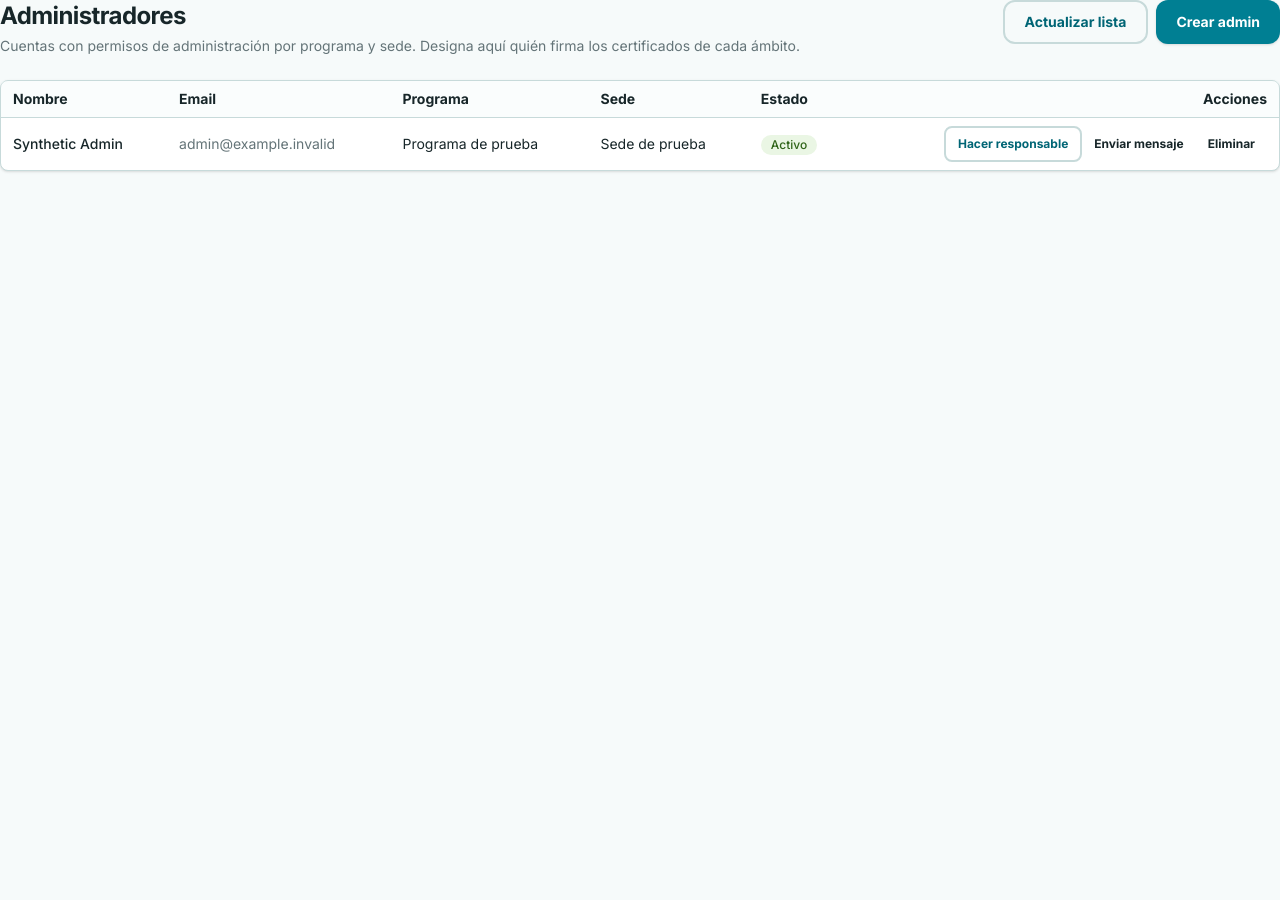
Test: opens a labeled dialog for the selected administrator and validates without writing
Expected: the text "admin@example.invalid" is shown, 167,118 -> 390,170
Click the button "Enviar mensaje" at point(1139, 144), box 1082,126 -> 1196,162
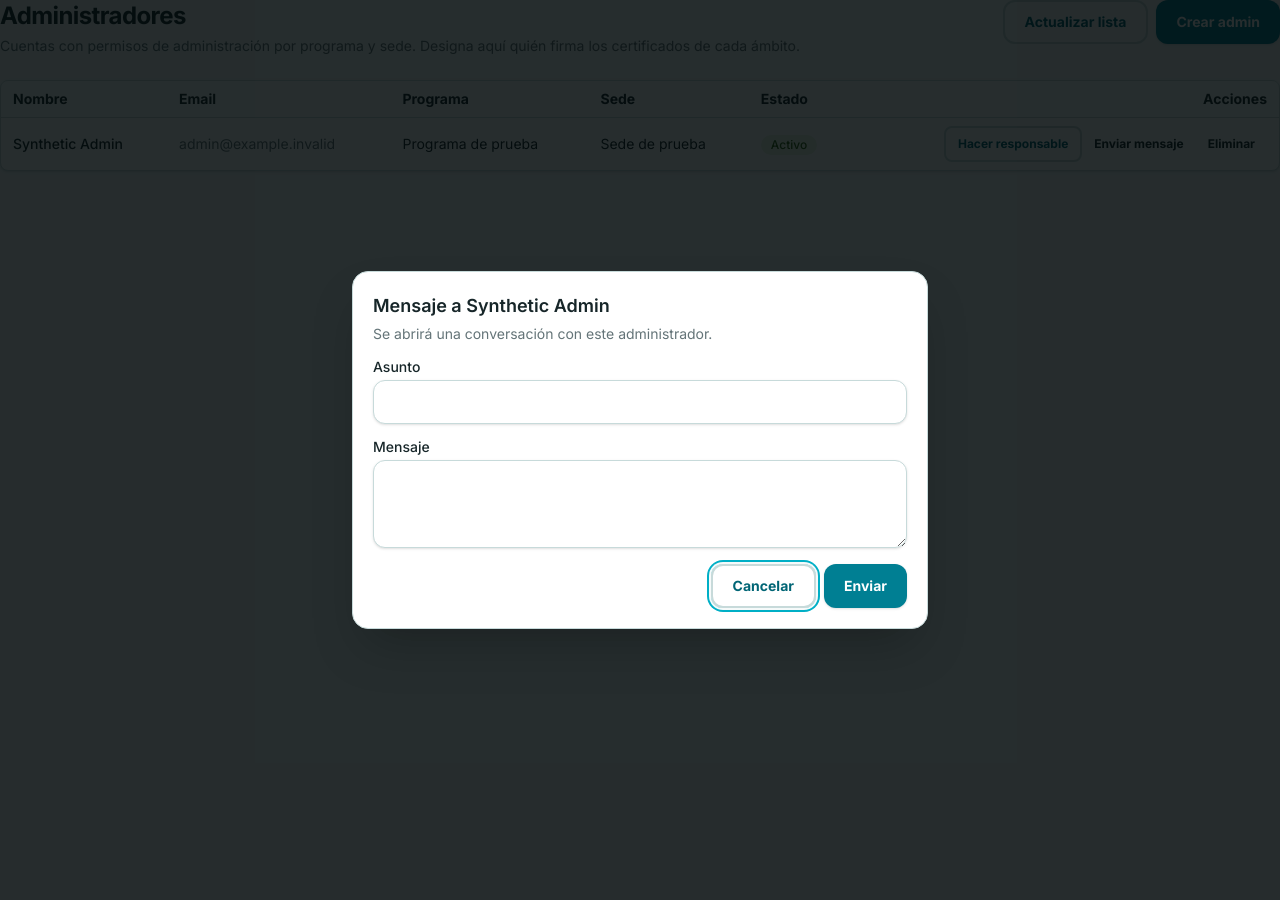
Now the dialog "Mensaje a Synthetic Admin" is shown, box 352,271 -> 928,629
Now the field labelled "Asunto" is shown, box 373,380 -> 907,424
Now the text box labelled "Mensaje" is shown, box 373,460 -> 907,548
Click the button "Enviar" at point(866, 586), box 824,564 -> 907,608
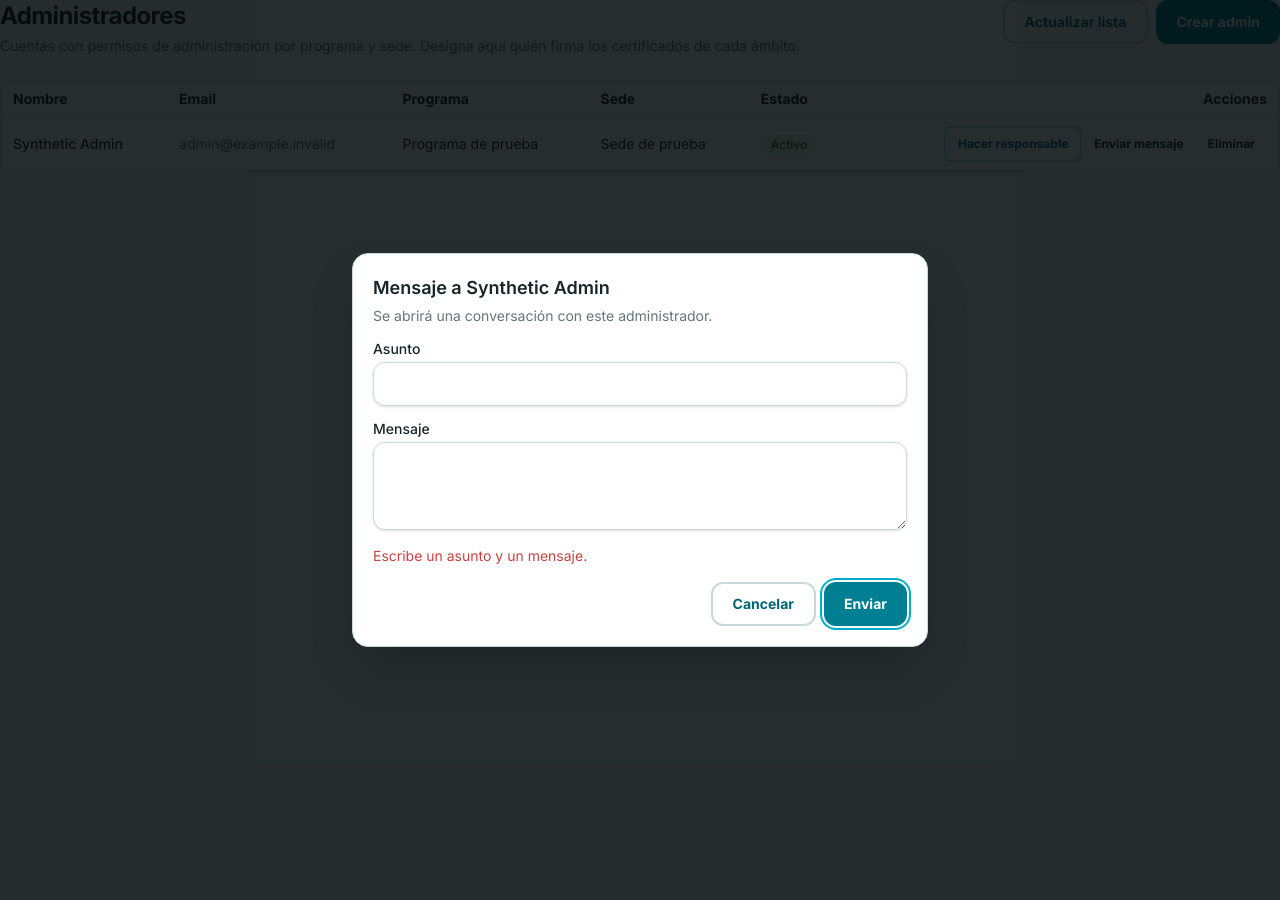
Now the message reads "Escribe un asunto y un mensaje.", box 373,547 -> 587,564
